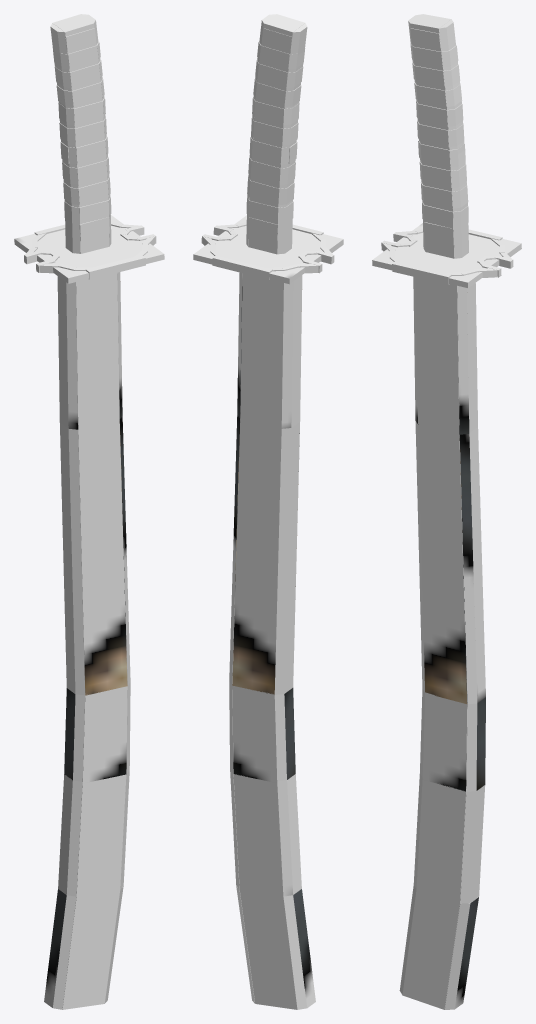
File: odachi_holster.obj
The picture shows the model from 3 angles, left to right: view 1: azimuth 30°, elevation 25°; view 2: azimuth 150°, elevation 25°; view 3: azimuth 330°, elevation 25°; orthographic projection.
Visible parts, largest first — view 1: katana_sheath.003, katana.001; view 2: katana_sheath.003, katana.001; view 3: katana_sheath.003, katana.001.
Part boxes in pixels (x1,y1,x2,y2): katana_sheath.003: (44,272,130,1009); katana.001: (14,14,164,283); katana_sheath.003: (229,272,315,1009); katana.001: (193,14,343,284); katana_sheath.003: (399,276,485,1009); katana.001: (372,14,521,287).
Size of the model in its own units: 0.3555 by 2.83 by 0.2851.
